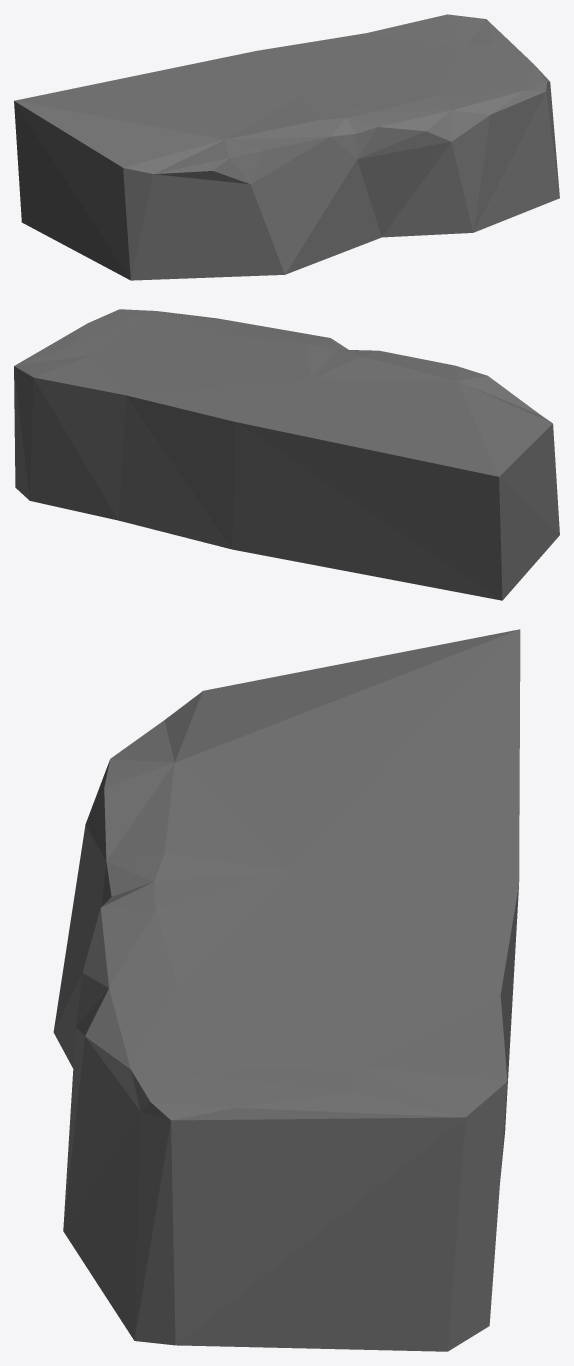
File: rock_013.glb
3 renders of one model, top to bottom at view 1: azimuth 30°, elevation 25°; view 2: azimuth 150°, elevation 25°; view 3: azimuth 270°, elevation 25°, orthographic. The views are drawn at different scales.
Parts seen in each view (by area): view 1: rock_013; view 2: rock_013; view 3: rock_013.
Part boxes in pixels (box(x1,y1,x2,y2)): rock_013: box(14, 14, 559, 280); rock_013: box(14, 309, 559, 600); rock_013: box(53, 629, 520, 1351).
Bounding box in the file's own units: 54.87 × 15.5 × 24.01.
Materials: 1 (1 with a texture image).
